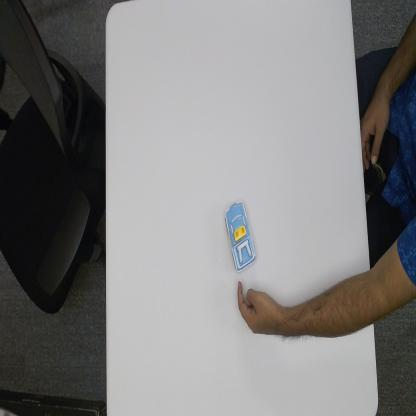Arm: (284, 269, 372, 339)
Car: (224, 198, 256, 272)
Hand: (236, 277, 283, 338)
